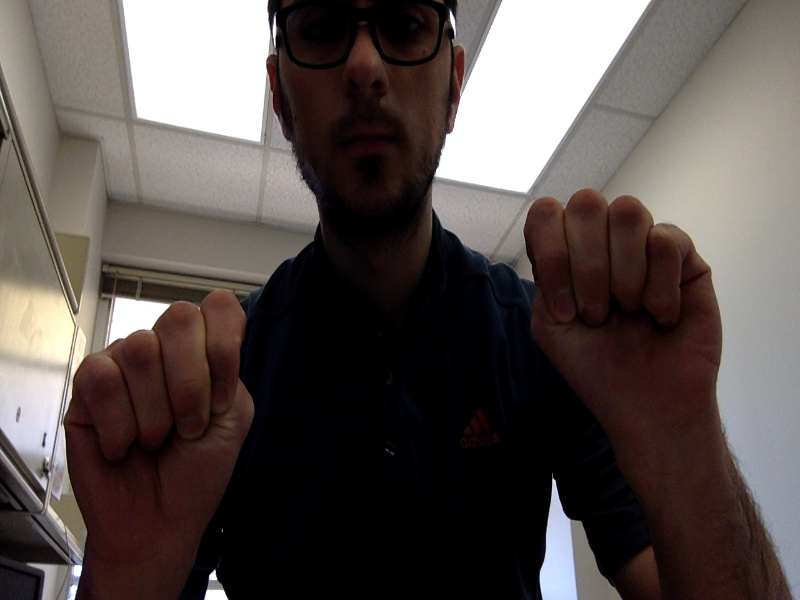0-hand: (68, 290, 255, 553), (525, 192, 720, 427)
